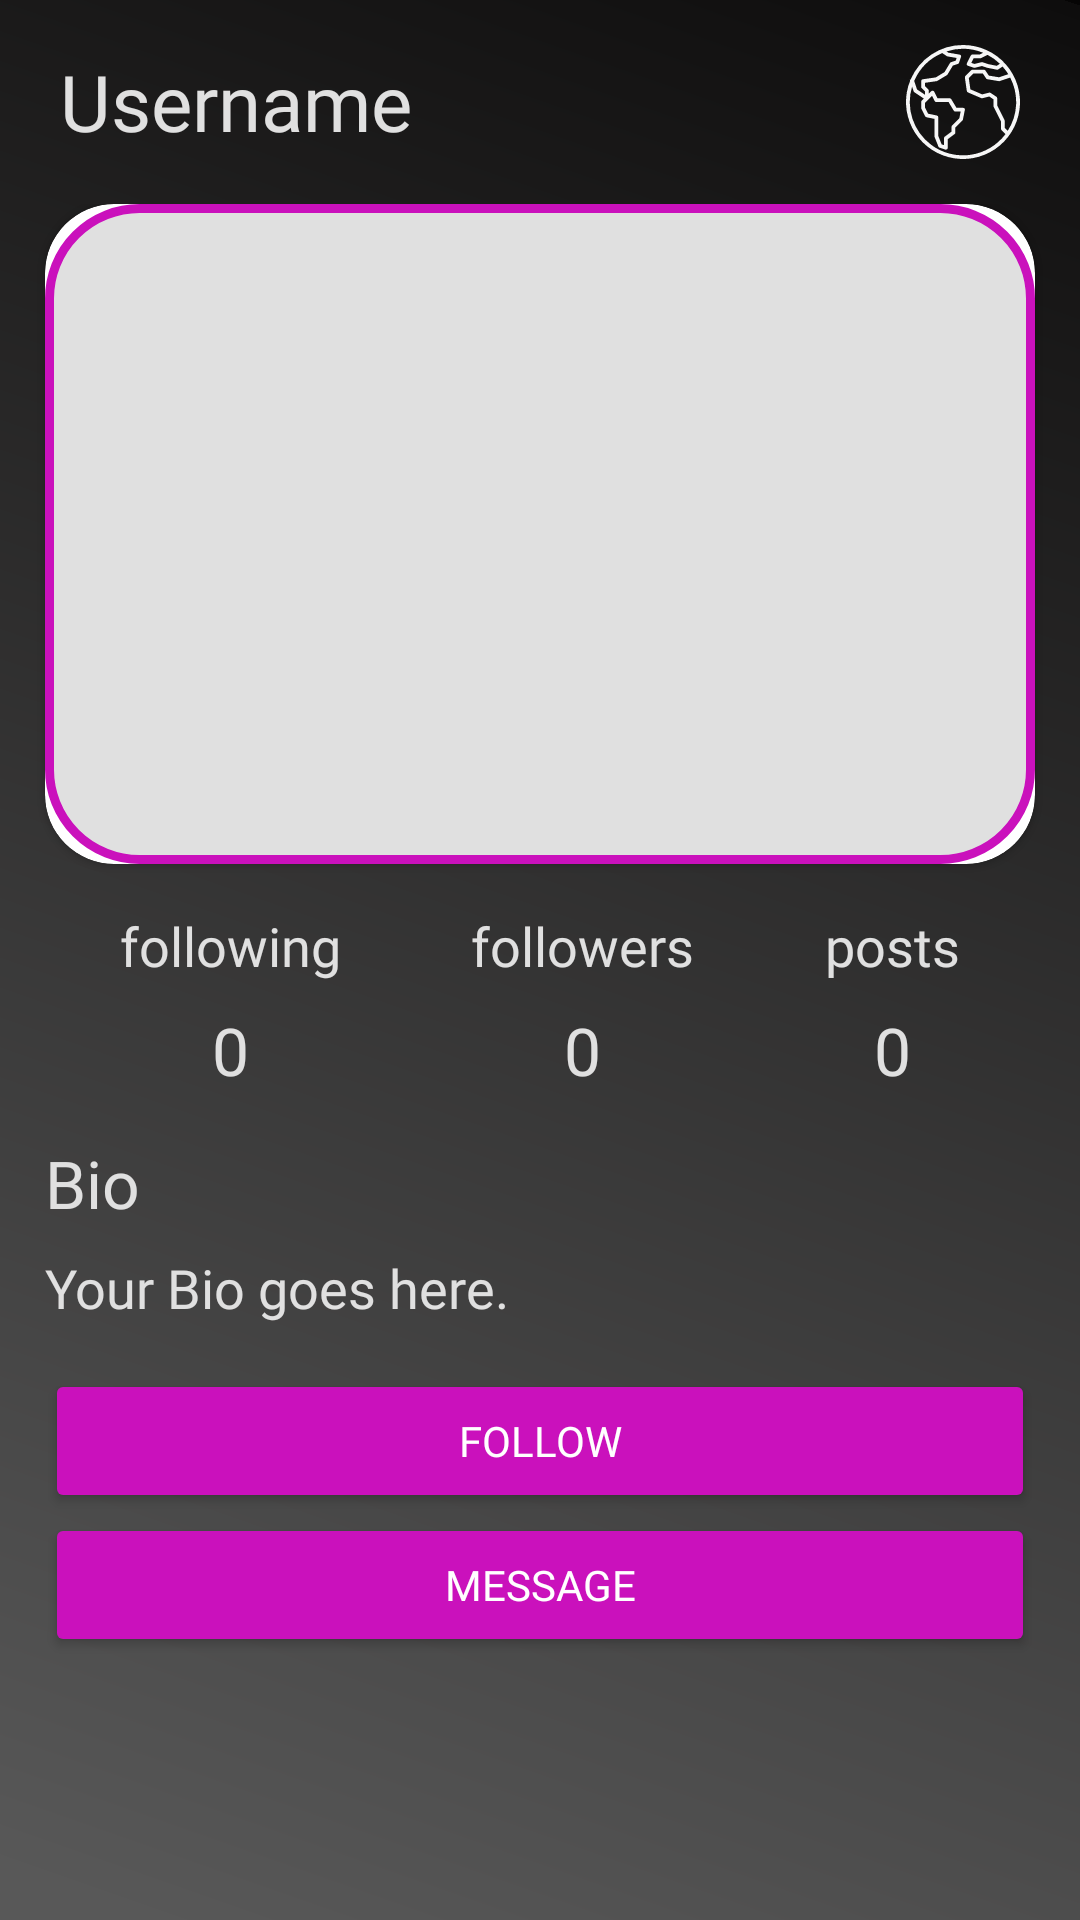

Icons on this 1080*1920 Android screen, each with its box as (x1, y1, x2, y2):
worldwide: (906, 45, 1020, 159)
